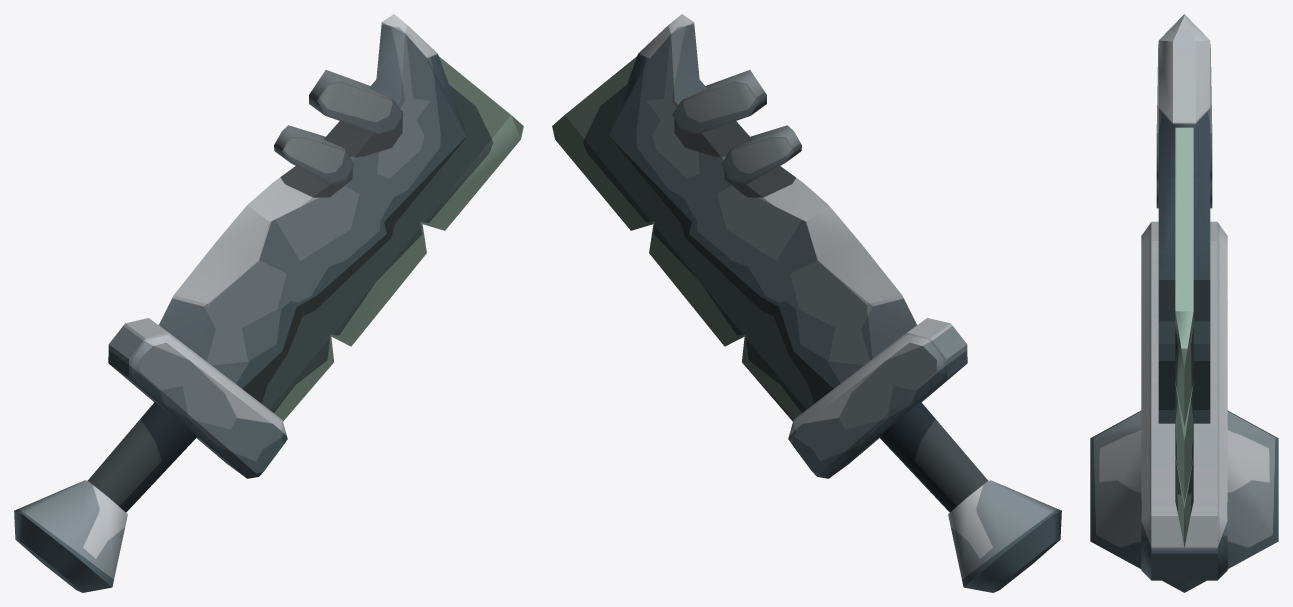
The model's file is Stone_01.FBX.
The picture shows the model from 3 angles, left to right: view 1: azimuth 30°, elevation 25°; view 2: azimuth 150°, elevation 25°; view 3: azimuth 270°, elevation 25°; orthographic projection. The views are drawn at different scales.
Visible parts, largest first — view 1: Stone_01; view 2: Stone_01; view 3: Stone_01.
Boxes of the visible parts, box(x1,y1,x2,y2) form: Stone_01: box(14, 14, 523, 592); Stone_01: box(552, 14, 1061, 592); Stone_01: box(1090, 14, 1278, 592).
Bounding box in the file's own units: 76.91 × 73.15 × 15.47.
